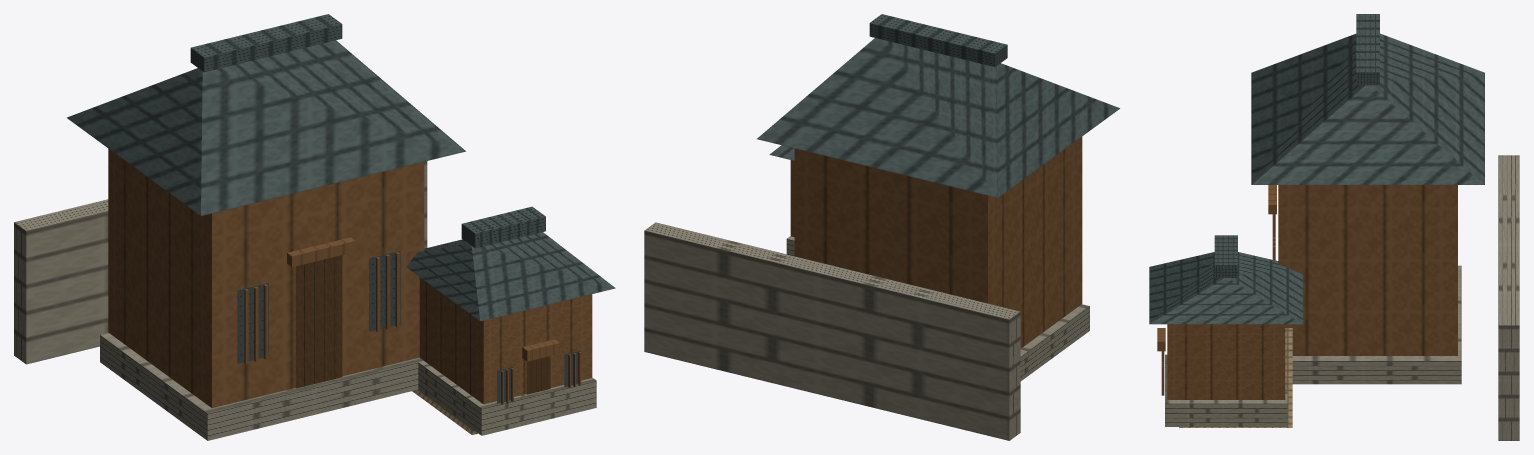
Rendered from domestic-BARRACKS-3-lod1.glb.
3 views of the same model, side by side, from view 1: azimuth 30°, elevation 25°; view 2: azimuth 150°, elevation 25°; view 3: azimuth 270°, elevation 25° (orthographic). The views are drawn at different scales.
Bounding box in the file's own units: 0.85 × 0.695 × 0.7825.
Materials: 1 (1 with a texture image).
